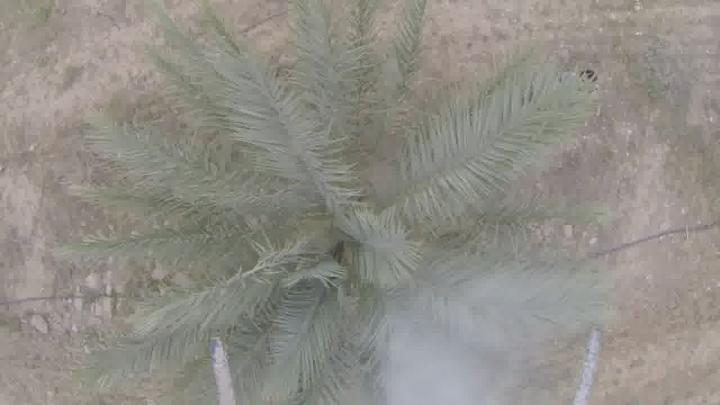Date-Palm-Crown: (186, 116, 478, 360)
